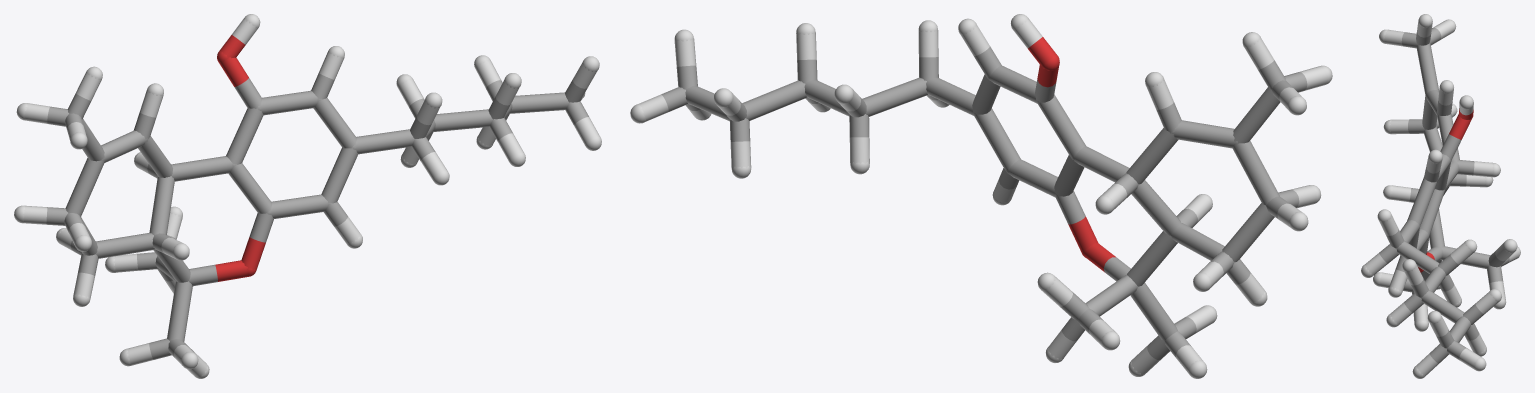
Rendered from thc-sticks.glb.
3 renders of one model, left to right at view 1: azimuth 30°, elevation 25°; view 2: azimuth 150°, elevation 25°; view 3: azimuth 270°, elevation 25°, orthographic. The views are drawn at different scales.
Parts seen in each view (by area): view 1: thc-sticks; view 2: thc-sticks; view 3: thc-sticks.
Boxes of the visible parts, bbox=[...] form: thc-sticks: bbox=[14, 14, 601, 378]; thc-sticks: bbox=[630, 14, 1332, 378]; thc-sticks: bbox=[1361, 14, 1520, 378].
Bounding box in the file's own units: 15.34 × 8.35 × 4.41.
